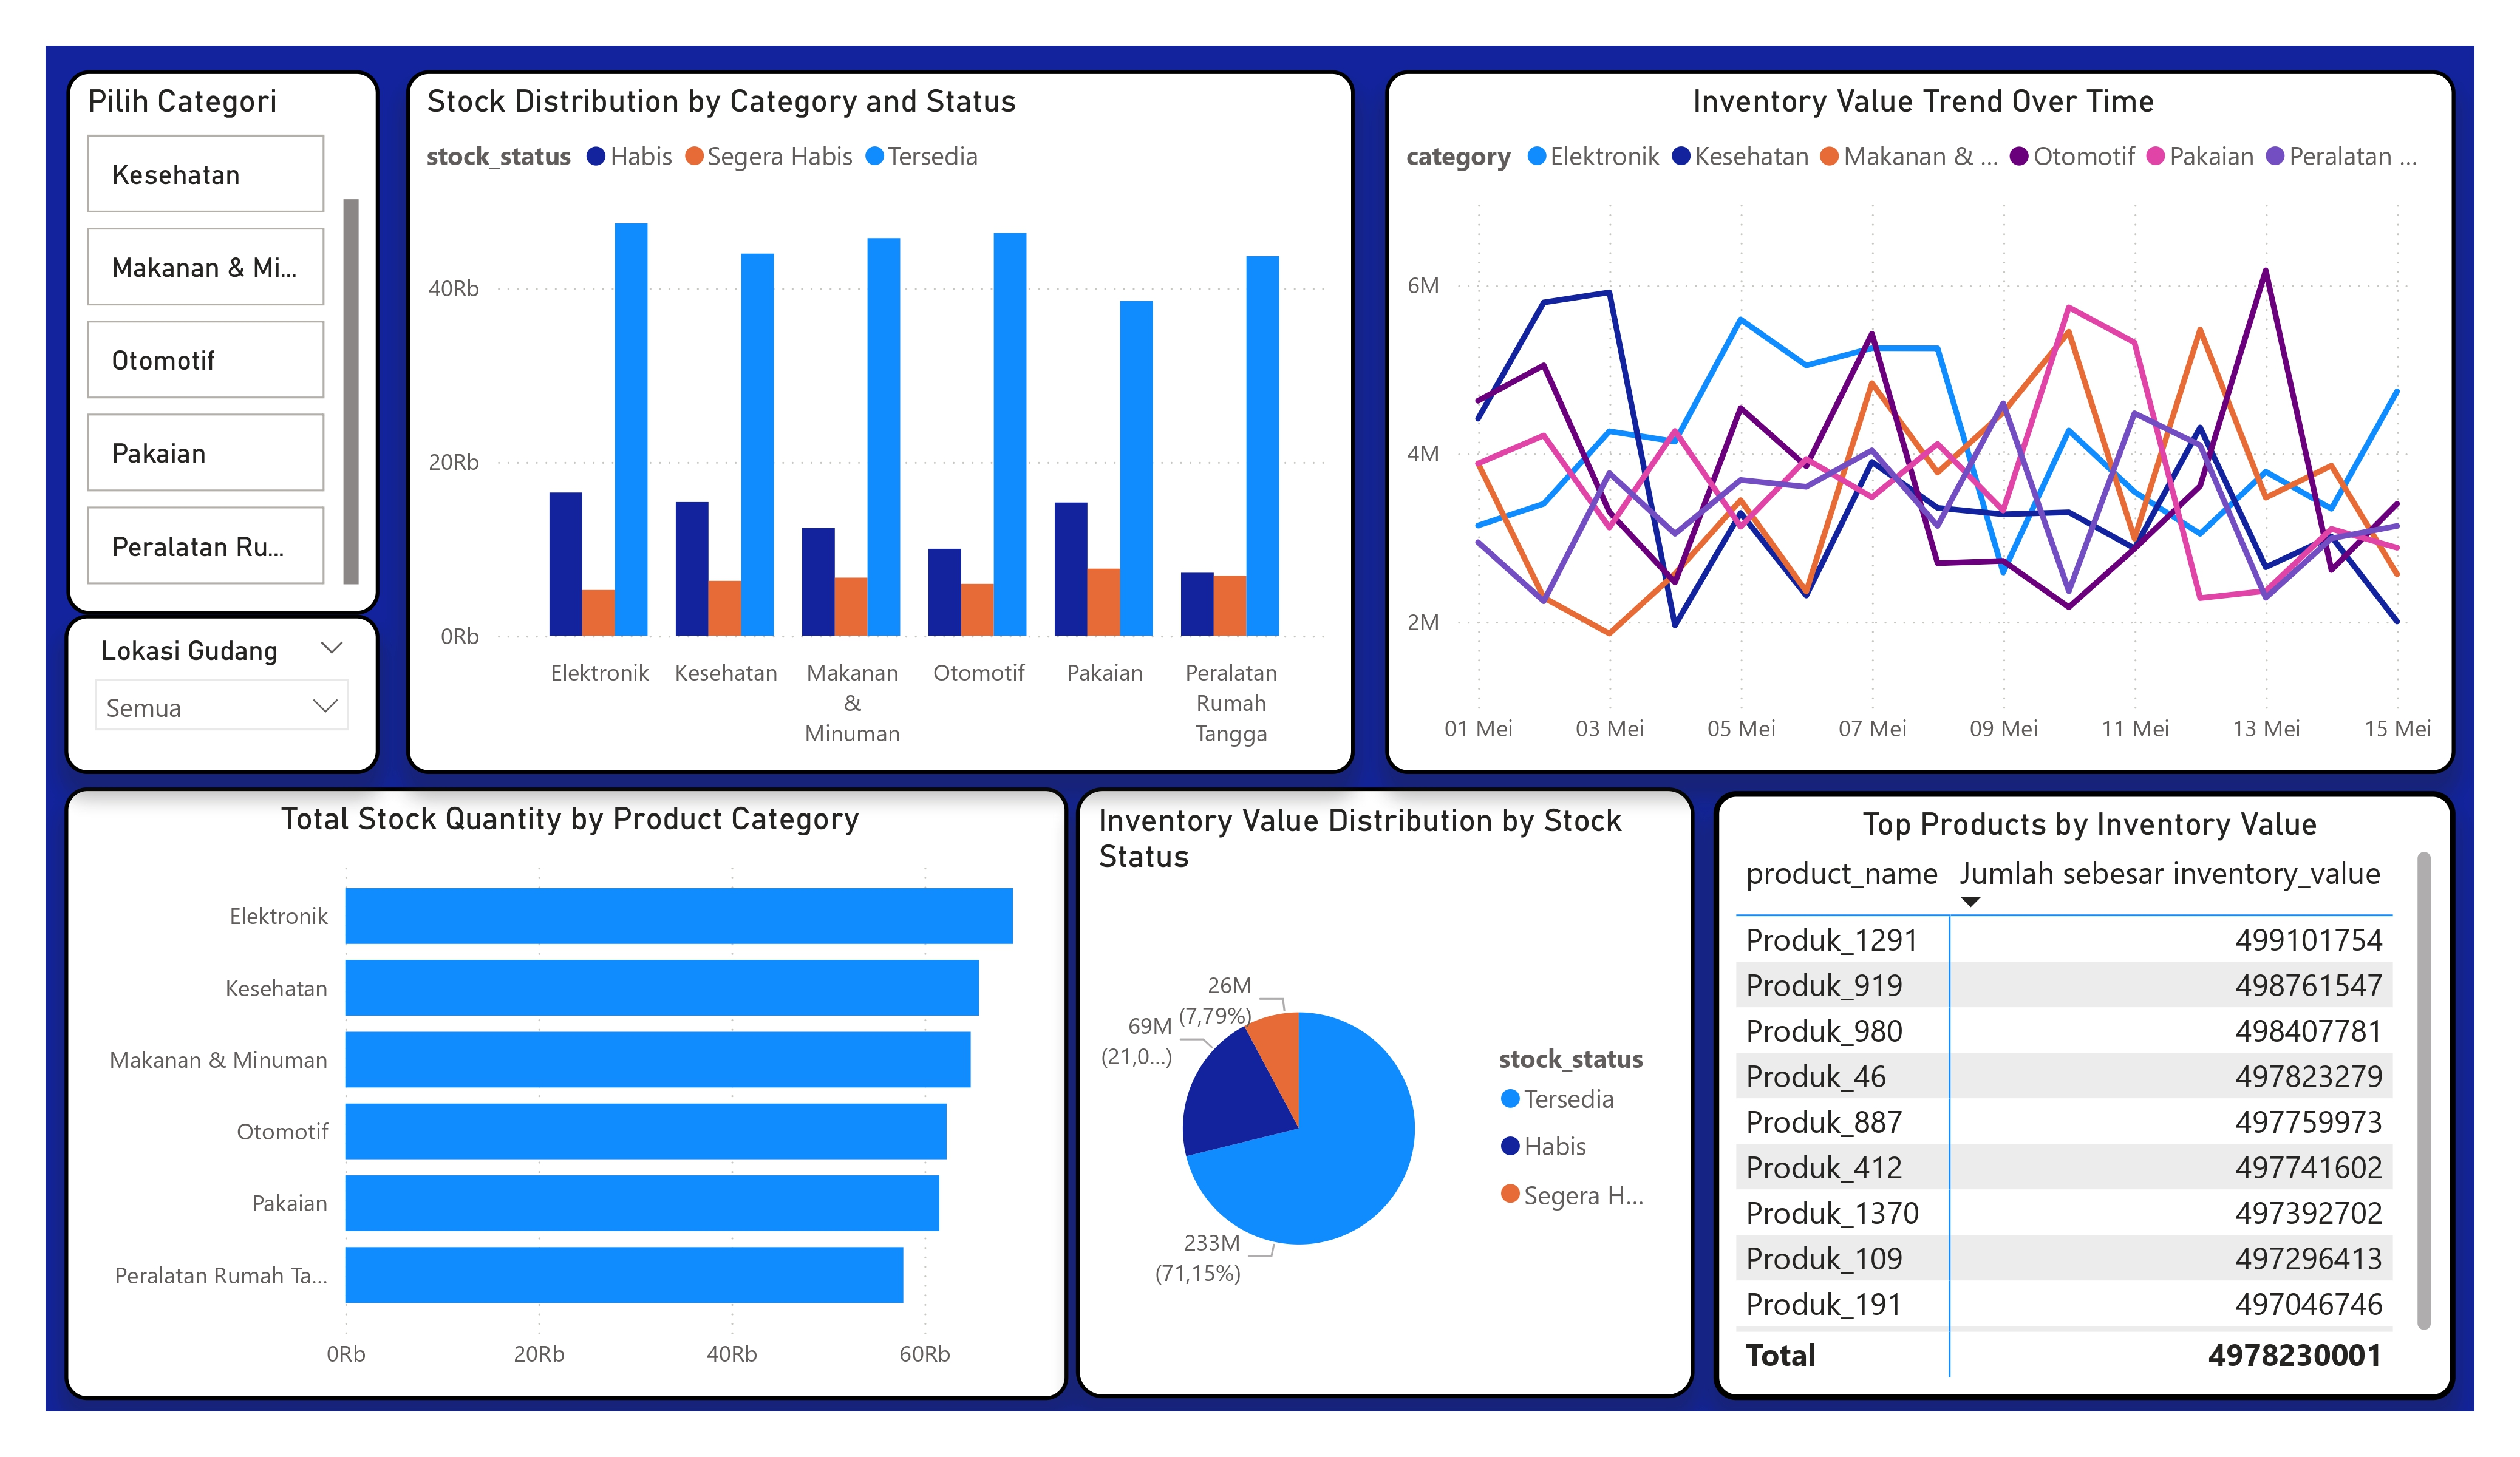

The page's visual inventory and layout, read from the dashboard file:
{"tool":"powerbi","page":{"name":"Halaman 1","canvas":[1280,720],"ordinal":0},"visuals":[{"type":"barChart","title":"Total Stock Quantity by Product Category","fields":{"Category":["cleaned_warehouse.category"],"Y":["Sum(cleaned_warehouse.stock_quantity)"]},"box":[0,384.2,573.5,335.1],"z":0},{"type":"slicer","fields":{"Values":["cleaned_warehouse.warehouse_location"]},"box":[0,286.1,164.1,98.2],"z":1000},{"type":"pieChart","title":"Inventory Value Distribution by Stock Status","fields":{"Category":["cleaned_warehouse.stock_status"],"Y":["Sum(cleaned_warehouse.inventory_value)"]},"box":[573.5,384.2,345,335.1],"z":2000},{"type":"advancedSlicerVisual","title":"Pilih Categori","fields":{"Values":["cleaned_warehouse.category"]},"box":[0,26.7,164.1,259.4],"z":3000},{"type":"lineChart","title":"Inventory Value Trend Over Time","fields":{"Y":["Sum(cleaned_warehouse.inventory_value)"],"Category":["cleaned_warehouse.date_updated.Variasi.Hierarki Tanggal.Tahun","cleaned_warehouse.date_updated.Variasi.Hierarki Tanggal.Bulan","cleaned_warehouse.date_updated.Variasi.Hierarki Tanggal.Hari"],"Series":["cleaned_warehouse.category"]},"box":[689.9,0,590.4,384.2],"z":4000},{"type":"pivotTable","title":"Top Products by Inventory Value","fields":{"Rows":["cleaned_warehouse.product_name"],"Columns":["cleaned_warehouse.product_name"],"Values":["Sum(cleaned_warehouse.inventory_value)"]},"box":[918.5,384.2,361.8,335.1],"z":6000},{"type":"clusteredColumnChart","title":"Stock Distribution by Category and Status","fields":{"Category":["cleaned_warehouse.category"],"Y":["Sum(cleaned_warehouse.stock_quantity)"],"Series":["cleaned_warehouse.stock_status"]},"box":[164.1,0,525.9,384.2],"z":6001}]}

Visuals, with their boxes in screenshot pixels (x1, y1, x2, y2):
"Total Stock Quantity by Product Category" barChart: BBox(59, 778, 1133, 1406)
slicer - cleaned_warehouse.warehouse_location: BBox(59, 595, 366, 778)
"Inventory Value Distribution by Stock Status" pieChart: BBox(1133, 778, 1779, 1406)
"Pilih Categori" advancedSlicerVisual: BBox(59, 109, 366, 595)
"Inventory Value Trend Over Time" lineChart: BBox(1351, 59, 2457, 778)
"Top Products by Inventory Value" pivotTable: BBox(1779, 778, 2457, 1406)
"Stock Distribution by Category and Status" clusteredColumnChart: BBox(366, 59, 1351, 778)
